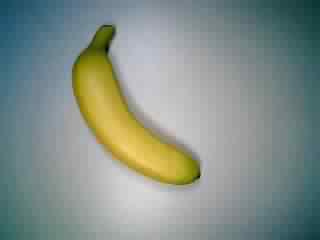banana: (69, 25, 206, 187)
